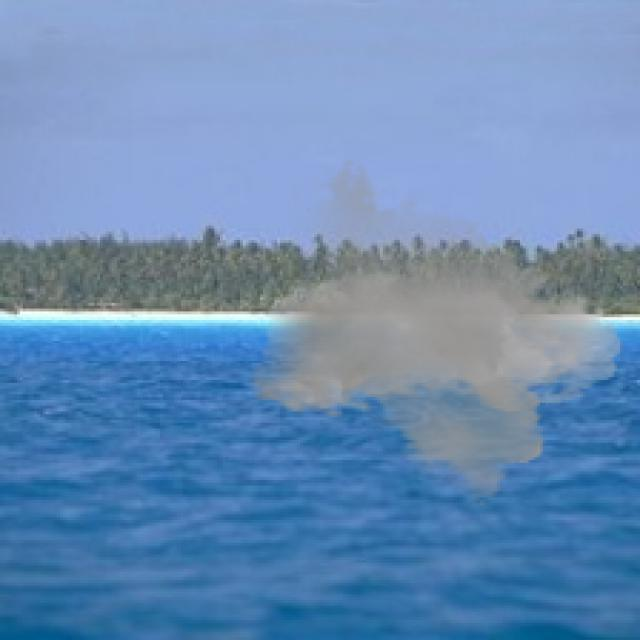smoke: (248, 157, 623, 509)
